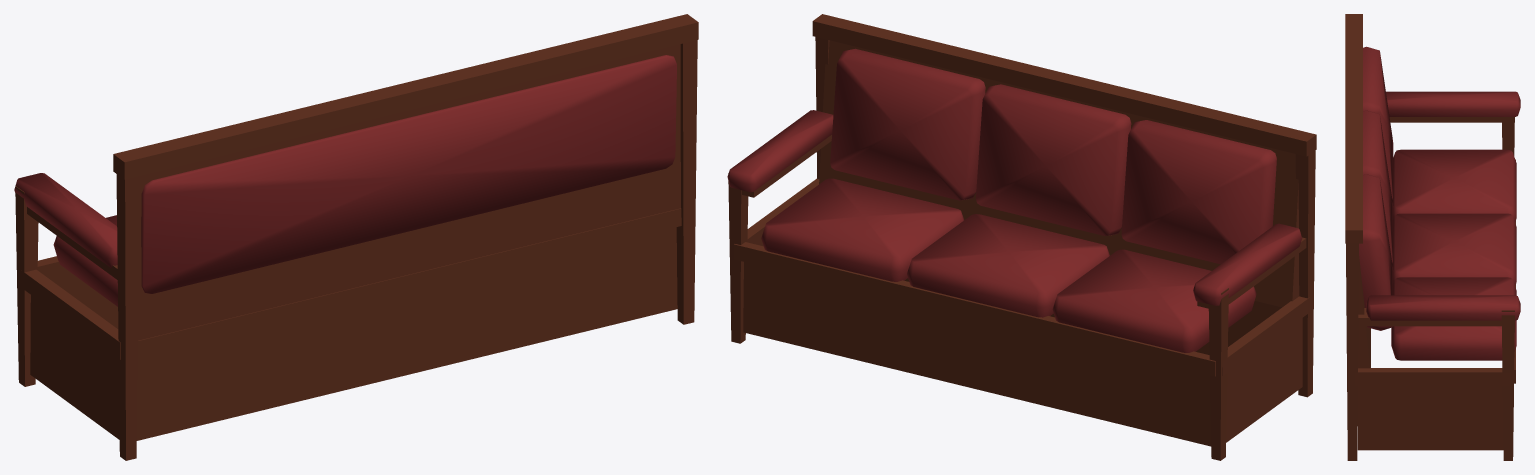
The model's file is parametric-settee-2nd.glb.
3 renders of one model, left to right at view 1: azimuth 30°, elevation 25°; view 2: azimuth 150°, elevation 25°; view 3: azimuth 270°, elevation 25°, orthographic. The views are drawn at different scales.
Visible parts, largest first — view 1: parametric-settee-2nd; view 2: parametric-settee-2nd; view 3: parametric-settee-2nd.
Part boxes in pixels (x1,y1,x2,y2): parametric-settee-2nd: (14, 14, 698, 460); parametric-settee-2nd: (727, 14, 1316, 460); parametric-settee-2nd: (1345, 14, 1520, 460).
Size of the model in its own units: 1.9 by 0.95 by 0.65.
